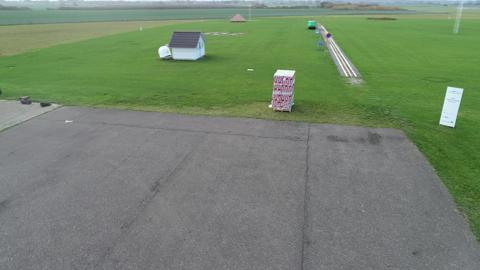RockwoolPallet: (272, 69, 297, 112)
